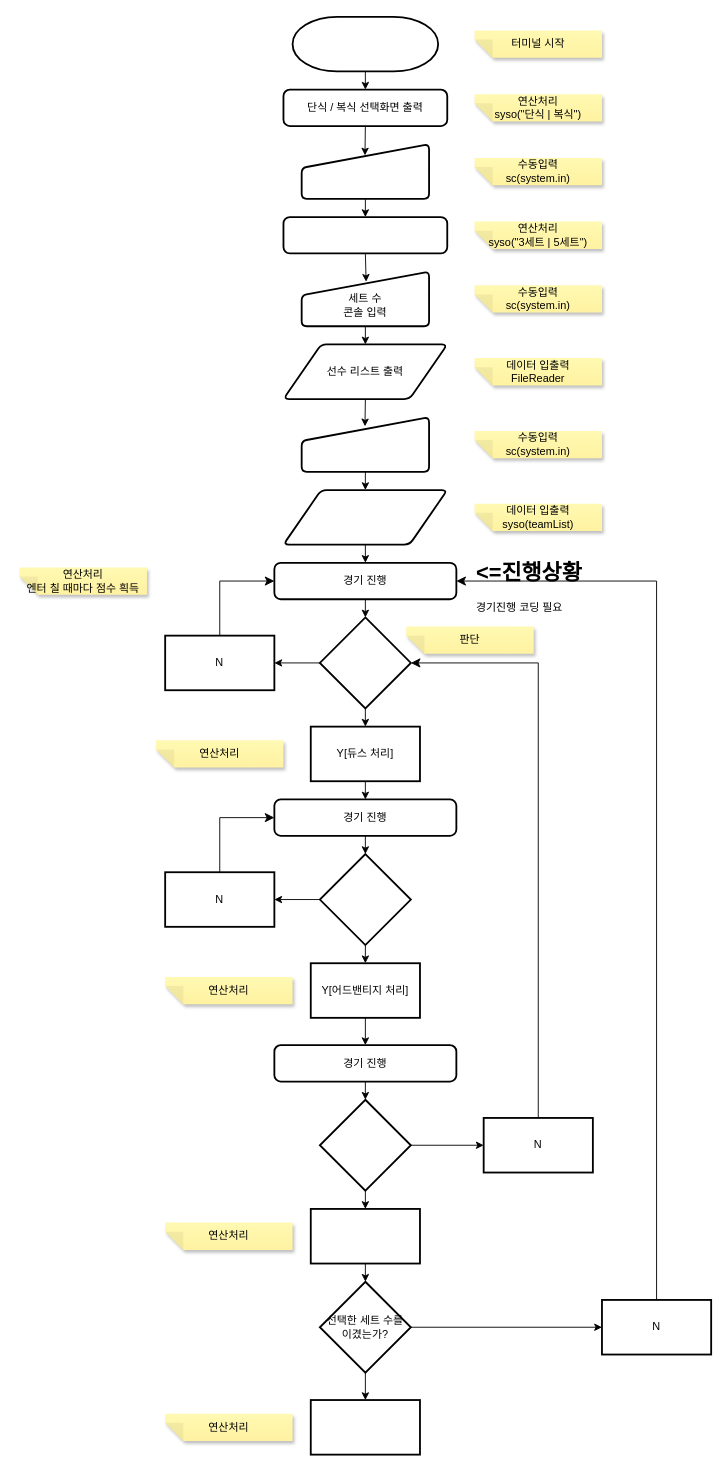
The diagram is 727 pixels wide and 1471 high, and some of its shapes have lost their labels. Each missing label, with the centre of its shape:
"1점차?" goes at (364,899).
"2점차?" goes at (364,1144).
"Y[세트 승] 이긴 세트 저장 승리한 세트 수 저장" goes at (364,1236).
"Y[해당팀 승리 처리]" goes at (364,1427).
"단식 / 복식 콘솔 입력" goes at (365,171).
"동점인가?" goes at (364,662).
"세트 수 선택화면 출력" goes at (365,235).
"시작" goes at (365,43).
"팀 리스트 출력" goes at (365,517).
"팀별 선수 입력" goes at (365,444).
